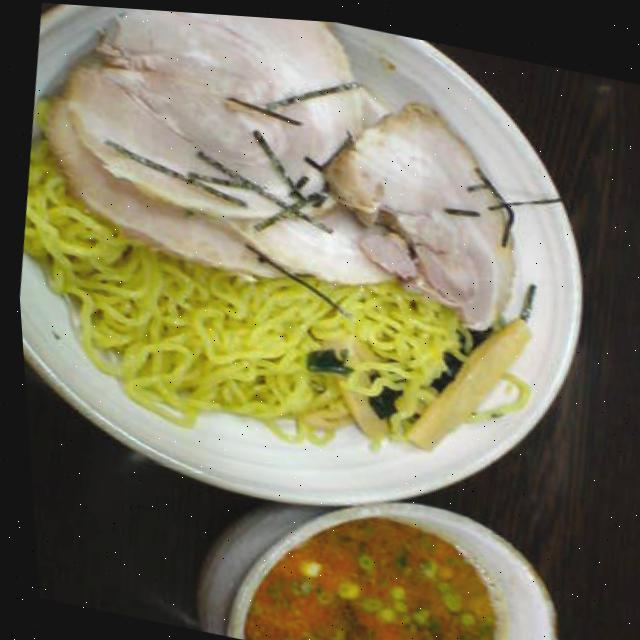面条主食: (0, 0, 581, 484)
